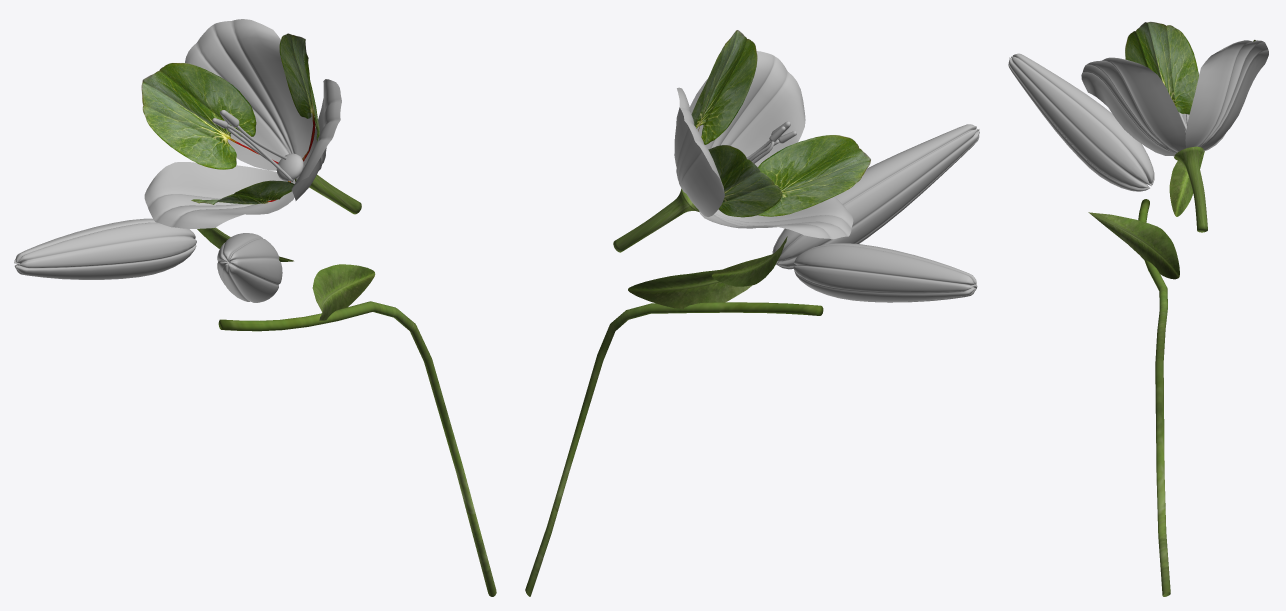
The model's file is flowers.glb.
The picture shows the model from 3 angles, left to right: view 1: azimuth 30°, elevation 25°; view 2: azimuth 150°, elevation 25°; view 3: azimuth 270°, elevation 25°; orthographic projection. The views are drawn at different scales.
Visible parts, largest first — view 1: Sphere009, Sphere001, Sphere124.001, Sphere007, Line012, Sphere125.001, Cylinder083, Sphere003, Sphere008, Sphere002, Loft003.001; view 2: Sphere124.001, Sphere125.001, Sphere002, Sphere008, Line012, Sphere003, Sphere009, Sphere001, Sphere007, Cylinder083, Loft003.001, Cylinder082; view 3: Sphere125.001, Sphere008, Sphere009, Sphere003, Line012, Cylinder083, Loft003.001, Cylinder082.
Boxes of the visible parts, bbox=[...] form: Sphere009: bbox=[185, 19, 312, 170]; Sphere001: bbox=[141, 62, 278, 169]; Sphere124.001: bbox=[14, 218, 196, 279]; Sphere007: bbox=[144, 162, 295, 228]; Line012: bbox=[218, 301, 496, 596]; Sphere125.001: bbox=[217, 233, 282, 302]; Cylinder083: bbox=[312, 264, 375, 320]; Sphere003: bbox=[279, 33, 319, 161]; Sphere008: bbox=[291, 79, 341, 200]; Sphere002: bbox=[191, 180, 294, 204]; Loft003.001: bbox=[295, 174, 361, 214]; Sphere124.001: bbox=[793, 243, 977, 302]; Sphere125.001: bbox=[772, 124, 979, 269]; Sphere002: bbox=[758, 135, 870, 216]; Sphere008: bbox=[689, 51, 805, 166]; Line012: bbox=[525, 302, 823, 596]; Sphere003: bbox=[691, 30, 757, 144]; Sphere009: bbox=[674, 87, 724, 216]; Sphere001: bbox=[708, 145, 782, 217]; Sphere007: bbox=[699, 196, 853, 239]; Cylinder083: bbox=[628, 269, 751, 309]; Loft003.001: bbox=[613, 188, 699, 252]; Cylinder082: bbox=[712, 236, 787, 286]; Sphere125.001: bbox=[1008, 53, 1154, 191]; Sphere008: bbox=[1081, 57, 1185, 156]; Sphere009: bbox=[1185, 40, 1268, 150]; Sphere003: bbox=[1125, 21, 1198, 114]; Line012: bbox=[1138, 199, 1170, 596]; Cylinder083: bbox=[1088, 212, 1179, 279]; Loft003.001: bbox=[1174, 146, 1207, 232]; Cylinder082: bbox=[1169, 151, 1204, 216].
Bounding box in the file's own units: 2.4 × 3.07 × 1.44.
Materials: 9 (3 with a texture image).
